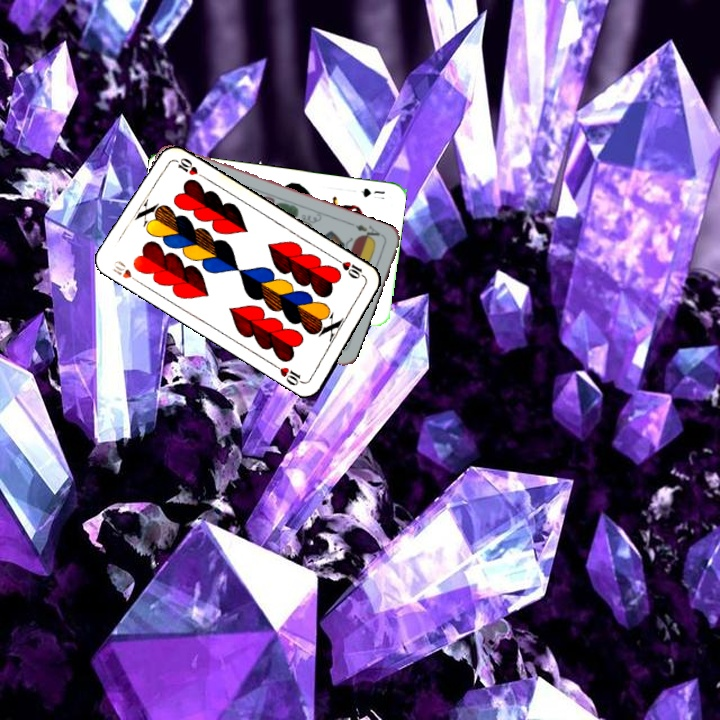EA: (347, 219, 383, 244)
GU: (357, 184, 387, 200)
H10: (109, 256, 144, 287), (332, 255, 369, 282)
